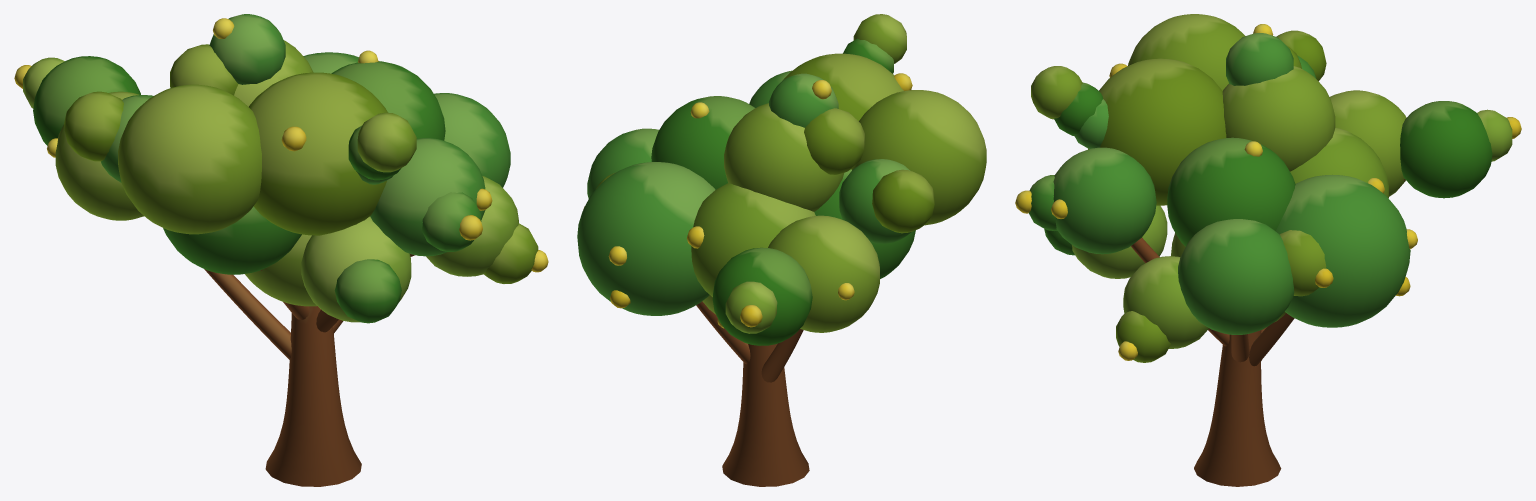
Rendered from orchard-tree-108.obj.
3 views of the same model, side by side, from view 1: azimuth 30°, elevation 25°; view 2: azimuth 150°, elevation 25°; view 3: azimuth 270°, elevation 25° (orthographic). The views are drawn at different scales.
Parts seen in each view (by area): view 1: tree; view 2: tree; view 3: tree.
Part boxes in pixels (x1=…): tree: x1=14, y1=14, x2=548, y2=486; tree: x1=577, y1=14, x2=986, y2=486; tree: x1=1015, y1=14, x2=1521, y2=486.
Size of the model in its own units: 347 by 377 by 422.
